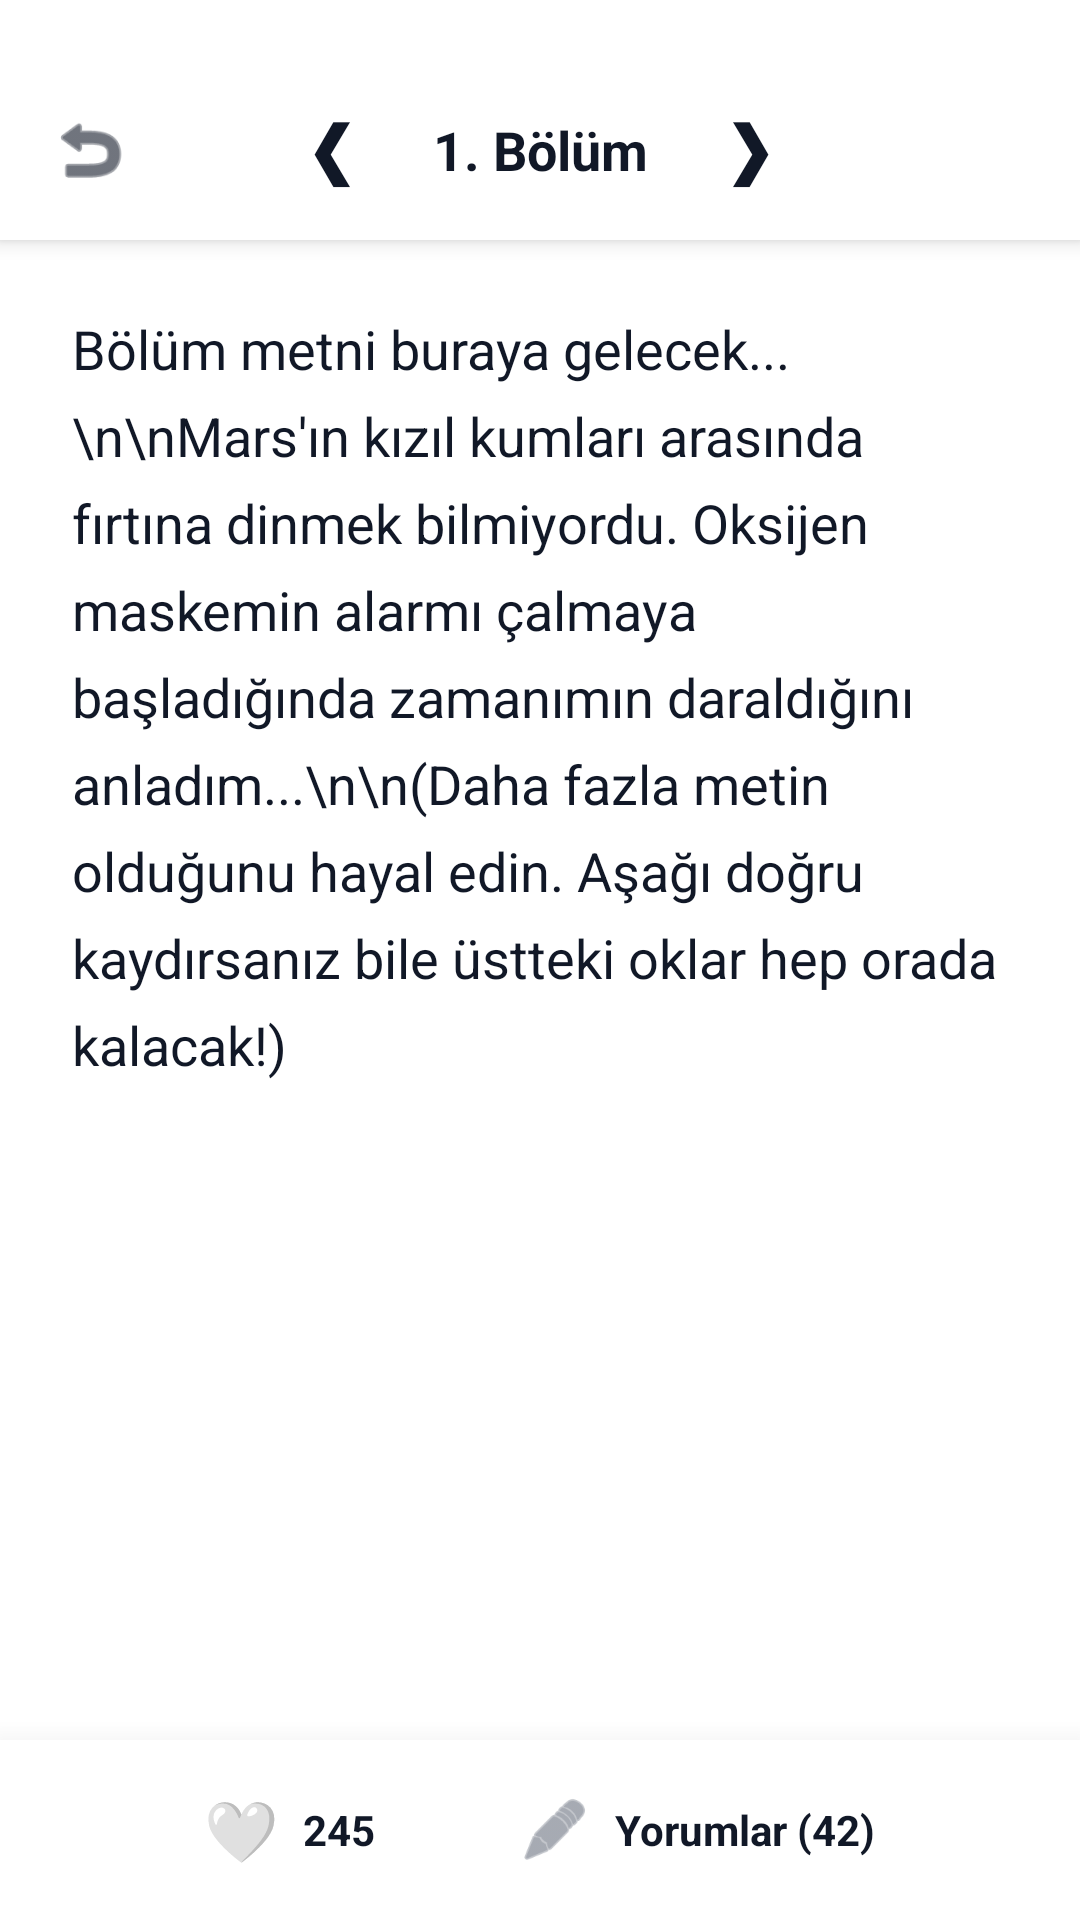

Icons on this 1080w x 1920h Android screen, each with its box as [x1=x1, y1=y1, x2=x2, y2=y2]:
edit: [x1=524, y1=1799, x2=585, y2=1860]
revert: [x1=61, y1=123, x2=121, y2=178]
